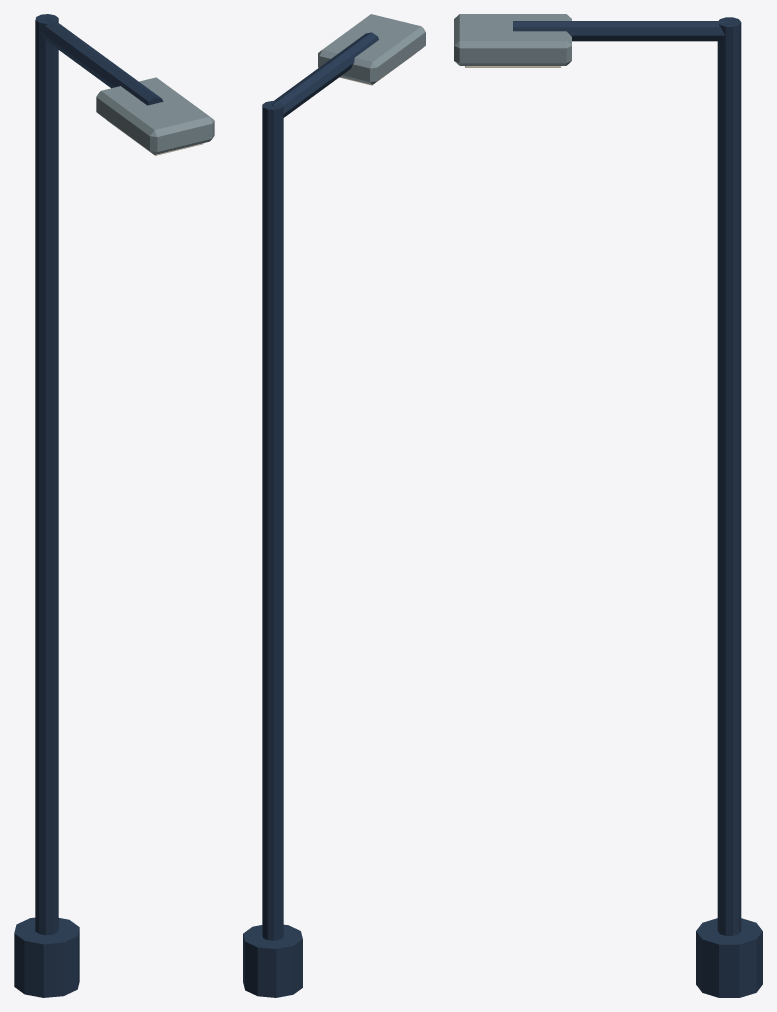
The model's file is StreetLight.fbx.
3 renders of one model, left to right at view 1: azimuth 30°, elevation 25°; view 2: azimuth 150°, elevation 25°; view 3: azimuth 270°, elevation 25°, orthographic. The views are drawn at different scales.
Visible parts, largest first — view 1: Pole.002, Lantern, Base.007, Arm.003; view 2: Pole.002, Lantern, Base.007, Arm.003; view 3: Pole.002, Lantern, Base.007, Arm.003.
Part boxes in pixels (<box>): Pole.002: <box>35,14,58,935</box>; Lantern: <box>96,77,214,154</box>; Base.007: <box>14,917,79,997</box>; Arm.003: <box>40,18,163,105</box>; Pole.002: <box>262,101,283,940</box>; Lantern: <box>318,14,425,84</box>; Base.007: <box>243,924,302,997</box>; Arm.003: <box>271,32,378,117</box>; Pole.002: <box>717,17,741,935</box>; Lantern: <box>454,14,571,65</box>; Base.007: <box>696,918,762,997</box>; Arm.003: <box>513,21,729,41</box>.
Bounding box in the file's own units: 0.38 × 5.41 × 1.57.
